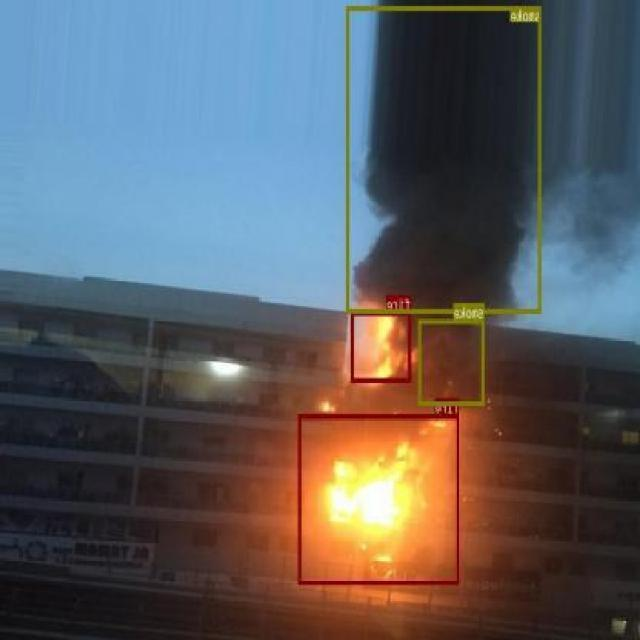Fire: (299, 413, 461, 584), (352, 310, 412, 382)
Smoke: (348, 5, 542, 313), (420, 318, 486, 404)
